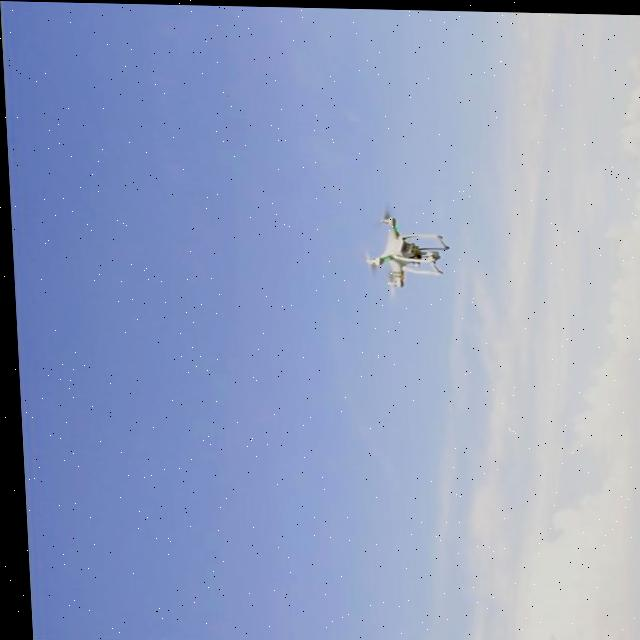drone: (356, 209, 444, 291)
